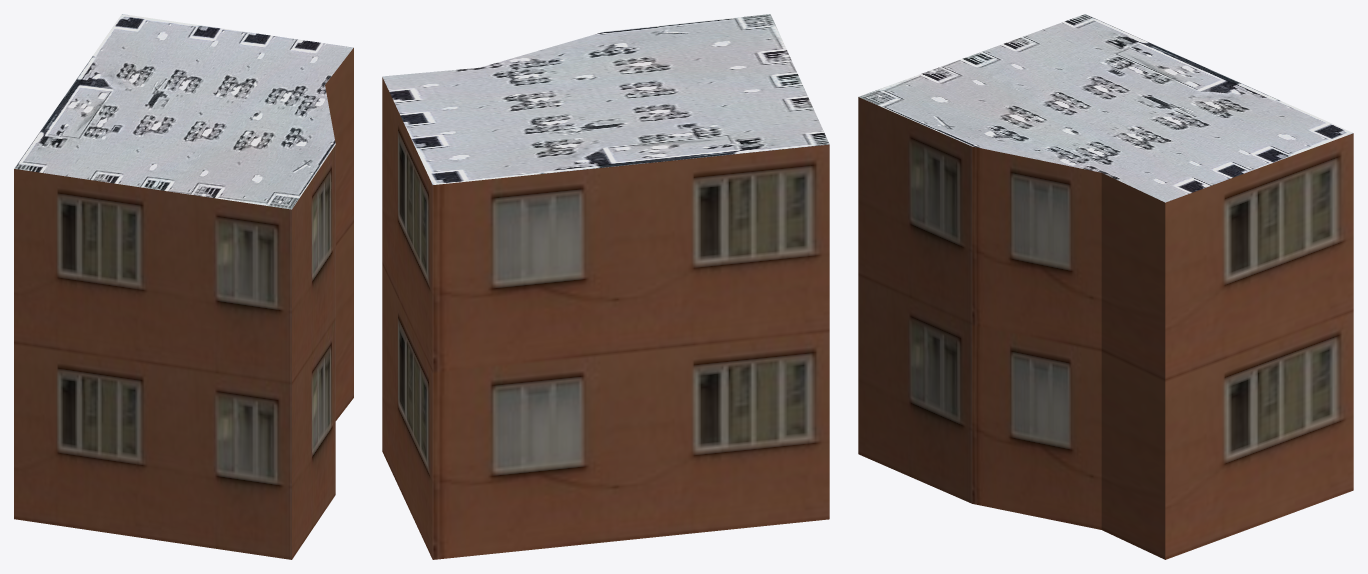
File: ResTex__1721.fbx
3 views of the same model, side by side, from view 1: azimuth 30°, elevation 25°; view 2: azimuth 150°, elevation 25°; view 3: azimuth 270°, elevation 25° (orthographic). The views are drawn at different scales.
Visible parts, largest first — view 1: CityEngineMaterial_20_m, CityEngineMaterial_4_m; view 2: CityEngineMaterial_20_m, CityEngineMaterial_4_m; view 3: CityEngineMaterial_20_m, CityEngineMaterial_4_m.
Part boxes in pixels (x1,y1,x2,y2): CityEngineMaterial_20_m: (14,48,353,559); CityEngineMaterial_4_m: (14,14,353,209); CityEngineMaterial_20_m: (382,77,829,559); CityEngineMaterial_4_m: (382,14,829,184); CityEngineMaterial_20_m: (858,97,1353,559); CityEngineMaterial_4_m: (858,14,1353,202).
Size of the model in its own units: 6.79 by 6 by 7.54.
2 materials, 2 textured.
